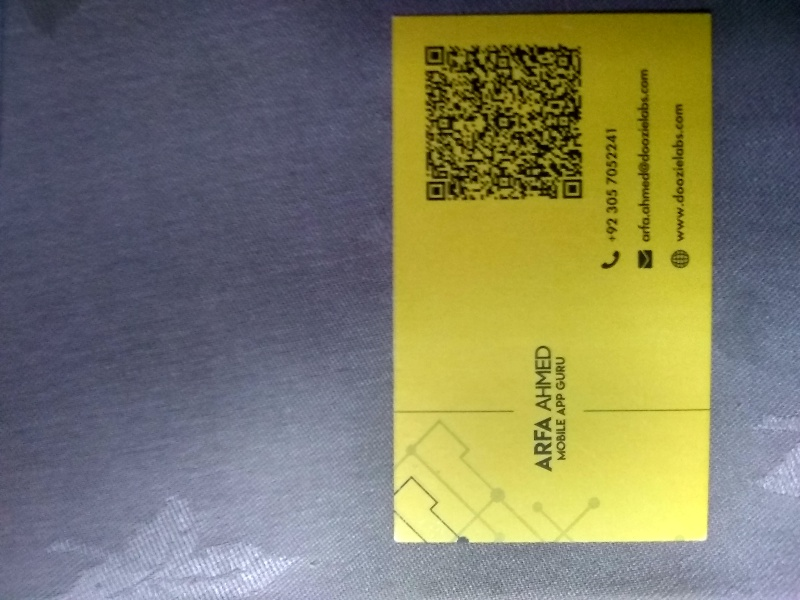front: (385, 11, 716, 547)
